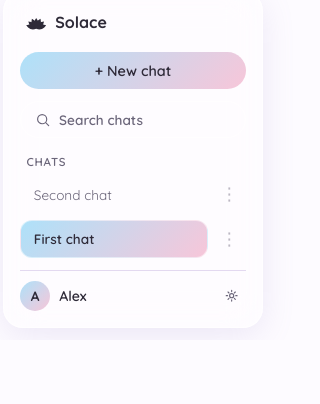
it: Sidebar › rename › switches to an inline input when Rename is chosen from the menu
Click the button named "Options for First chat" at (229, 239), box left=212, top=225, right=246, bottom=252
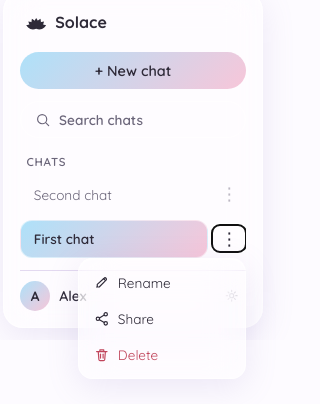
Click the menu item "Rename" at (162, 282), box left=85, top=265, right=239, bottom=300
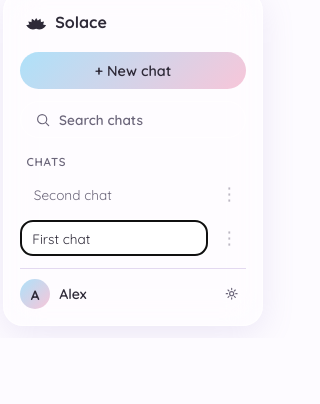
Result: the field named "Rename conversation" holds "First chat" at left=20, top=220, right=208, bottom=256
